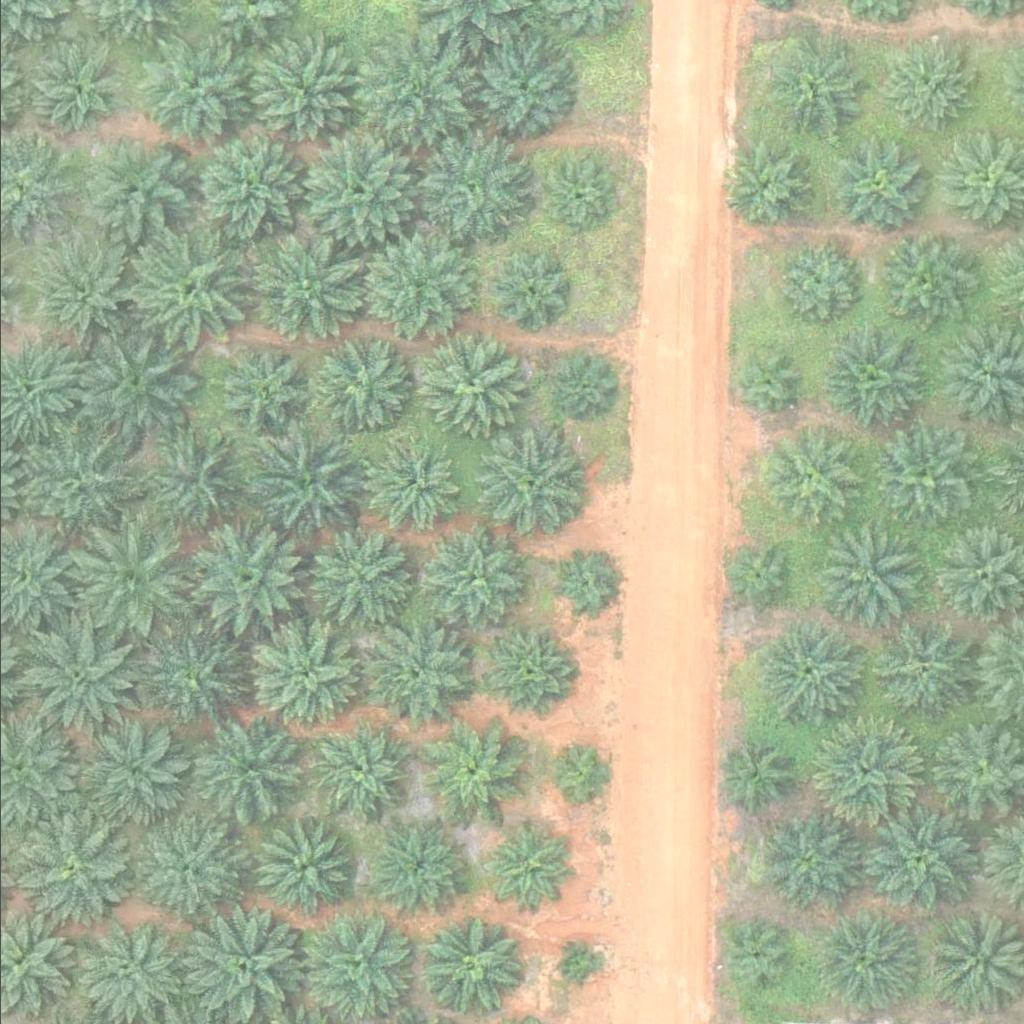Kelapa_Sawit: (347, 32, 473, 157), (182, 126, 308, 251), (240, 227, 366, 352), (125, 226, 251, 351), (69, 322, 195, 447), (249, 418, 375, 543), (130, 417, 256, 542), (14, 417, 140, 542), (180, 518, 306, 643), (62, 516, 188, 641), (14, 613, 140, 738), (238, 614, 363, 739), (7, 804, 132, 929), (241, 38, 355, 151), (863, 804, 976, 917), (137, 36, 250, 149), (19, 29, 132, 142), (71, 130, 184, 243), (360, 230, 473, 343), (303, 133, 417, 245), (24, 238, 138, 350), (802, 717, 915, 829), (419, 128, 532, 240), (306, 910, 419, 1022), (757, 811, 858, 911), (866, 620, 967, 720), (759, 624, 860, 724), (821, 527, 922, 627), (872, 428, 973, 528), (760, 428, 861, 528), (818, 329, 919, 429), (874, 234, 975, 334), (422, 335, 523, 435), (307, 334, 408, 434), (481, 437, 582, 537), (360, 431, 461, 531), (424, 528, 525, 628), (312, 528, 413, 628), (367, 623, 468, 723), (140, 631, 241, 731), (420, 725, 521, 825), (305, 720, 406, 820), (191, 721, 292, 821), (87, 725, 188, 825), (368, 817, 469, 917), (252, 819, 353, 919), (136, 816, 237, 916), (816, 914, 916, 1014), (717, 135, 817, 235), (767, 41, 867, 141), (469, 36, 569, 136), (212, 341, 312, 441), (424, 917, 524, 1017), (773, 240, 861, 328), (481, 822, 569, 910), (833, 145, 921, 232), (890, 41, 978, 128), (484, 634, 572, 721), (535, 157, 611, 232), (718, 920, 794, 995), (726, 346, 802, 421), (492, 254, 567, 329), (713, 738, 788, 813), (719, 542, 794, 617), (550, 355, 613, 418), (552, 555, 615, 617), (551, 741, 614, 803), (556, 948, 594, 985)
